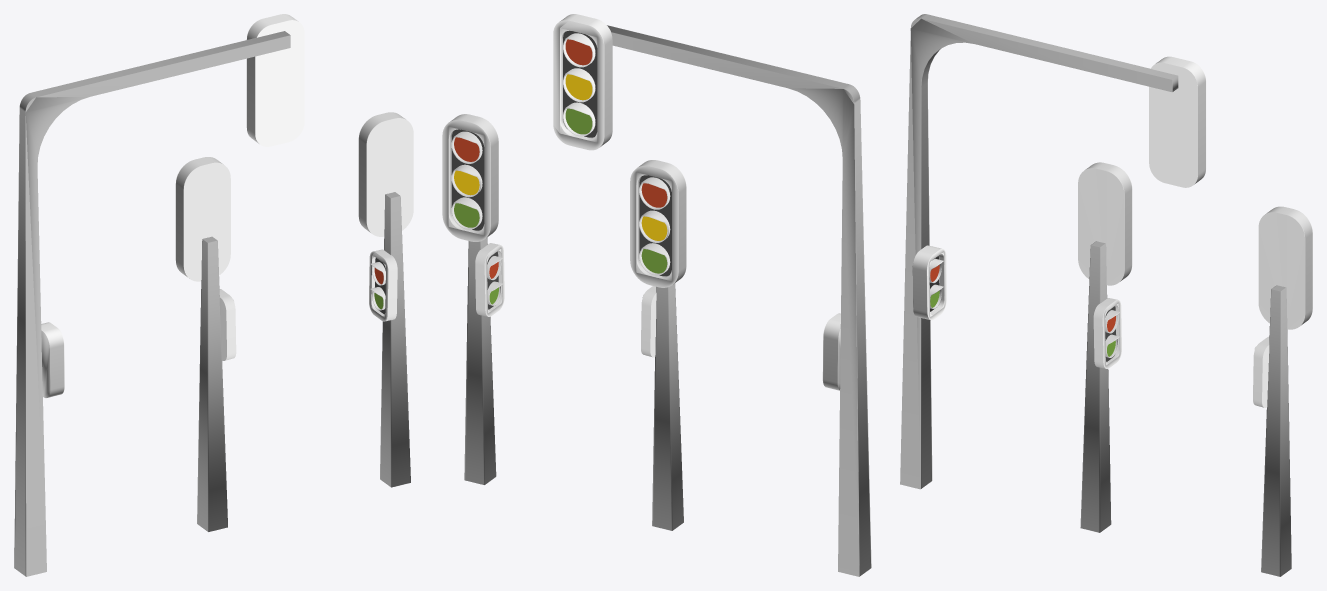
Rendered from traffic_light_01.fbx.
The picture shows the model from 3 angles, left to right: view 1: azimuth 30°, elevation 25°; view 2: azimuth 150°, elevation 25°; view 3: azimuth 330°, elevation 25°; orthographic projection. The views are drawn at different scales.
Visible parts, largest first — view 1: traffic light long, traffic light normal lefty, traffic light normal; view 2: traffic light long, traffic light normal, traffic light normal lefty; view 3: traffic light long, traffic light normal, traffic light normal lefty.
Part boxes in pixels (x1=…): traffic light long: x1=14, y1=14, x2=304, y2=576; traffic light normal lefty: x1=175, y1=157, x2=236, y2=531; traffic light normal: x1=358, y1=112, x2=413, y2=487; traffic light long: x1=553, y1=14, x2=871, y2=576; traffic light normal: x1=442, y1=114, x2=504, y2=484; traffic light normal lefty: x1=630, y1=160, x2=686, y2=530; traffic light long: x1=900, y1=14, x2=1206, y2=489; traffic light normal: x1=1253, y1=206, x2=1312, y2=576; traffic light normal lefty: x1=1078, y1=162, x2=1132, y2=532.
Size of the model in its own units: 8.48 by 9.77 by 1.13.
1 material, 1 textured.
